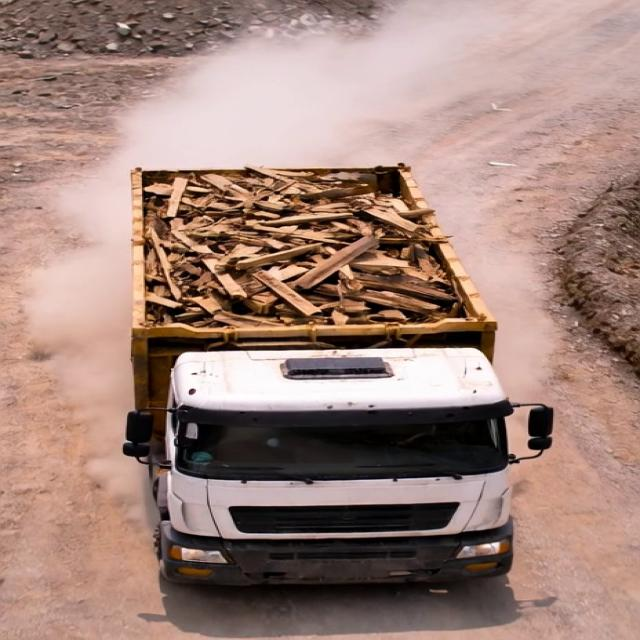Box: (112, 162, 495, 333)
Truck: (106, 163, 557, 592)
